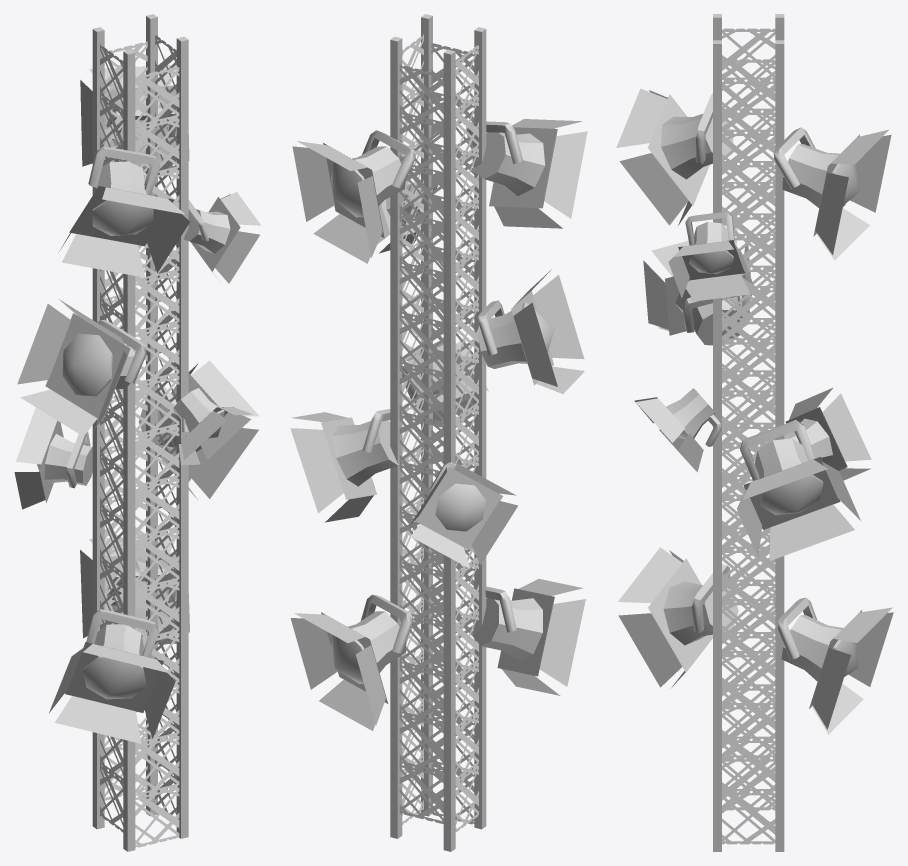
File: braceLight.fbx
The picture shows the model from 3 angles, left to right: view 1: azimuth 30°, elevation 25°; view 2: azimuth 150°, elevation 25°; view 3: azimuth 270°, elevation 25°; orthographic projection.
Parts seen in each view (by area): view 1: lights, pole, polySurface2, polySurface1, polySurface4, polySurface3; view 2: lights, pole, polySurface4, polySurface1, polySurface2, polySurface3; view 3: lights, polySurface3, pole, polySurface1.
Part boxes in pixels (x1=…): lights: x1=14, y1=65, x2=260, y2=743; pole: x1=92, y1=14, x2=188, y2=851; polySurface2: x1=135, y1=66, x2=179, y2=847; polySurface1: x1=100, y1=44, x2=123, y2=832; polySurface4: x1=104, y1=41, x2=147, y2=800; polySurface3: x1=155, y1=35, x2=176, y2=814; lights: x1=290, y1=119, x2=587, y2=730; pole: x1=390, y1=14, x2=486, y2=851; polySurface4: x1=399, y1=64, x2=443, y2=823; polySurface1: x1=455, y1=45, x2=478, y2=832; polySurface2: x1=431, y1=43, x2=474, y2=824; polySurface3: x1=402, y1=34, x2=423, y2=824; lights: x1=616, y1=88, x2=893, y2=734; polySurface3: x1=722, y1=59, x2=775, y2=844; pole: x1=713, y1=14, x2=784, y2=851; polySurface1: x1=722, y1=28, x2=775, y2=810.
Size of the model in its own units: 7.84 by 25 by 7.79.
Materials: 2 (1 with a texture image).
